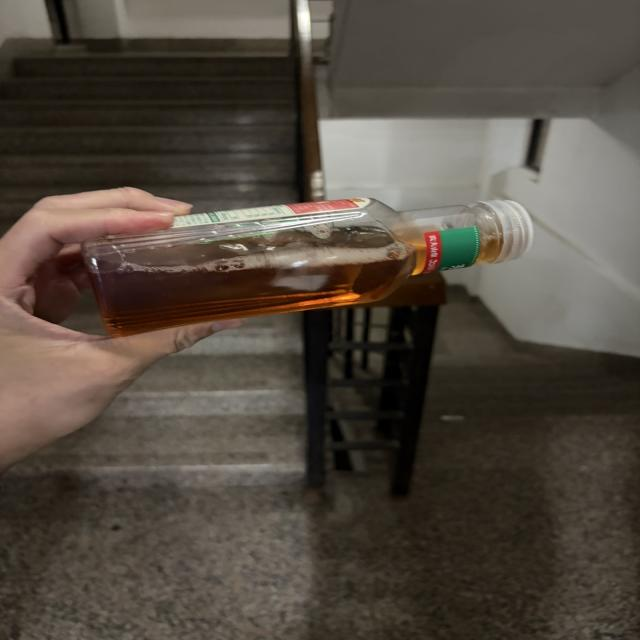medium: (83, 198, 533, 336)
